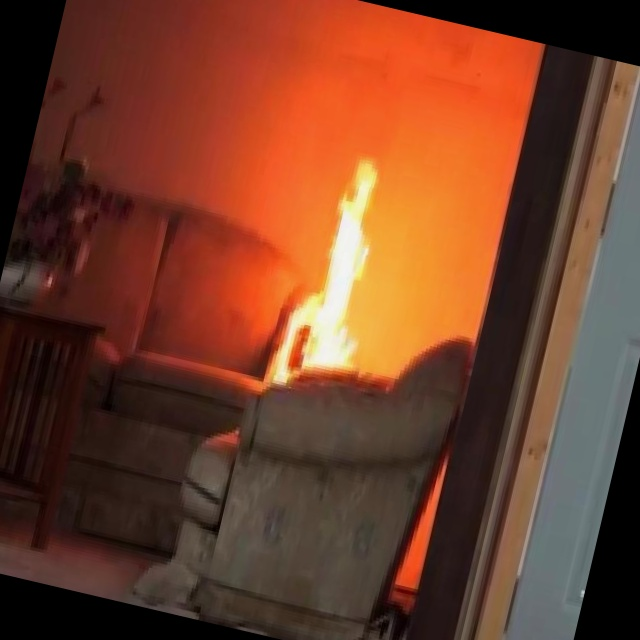fire: (276, 143, 412, 396)
